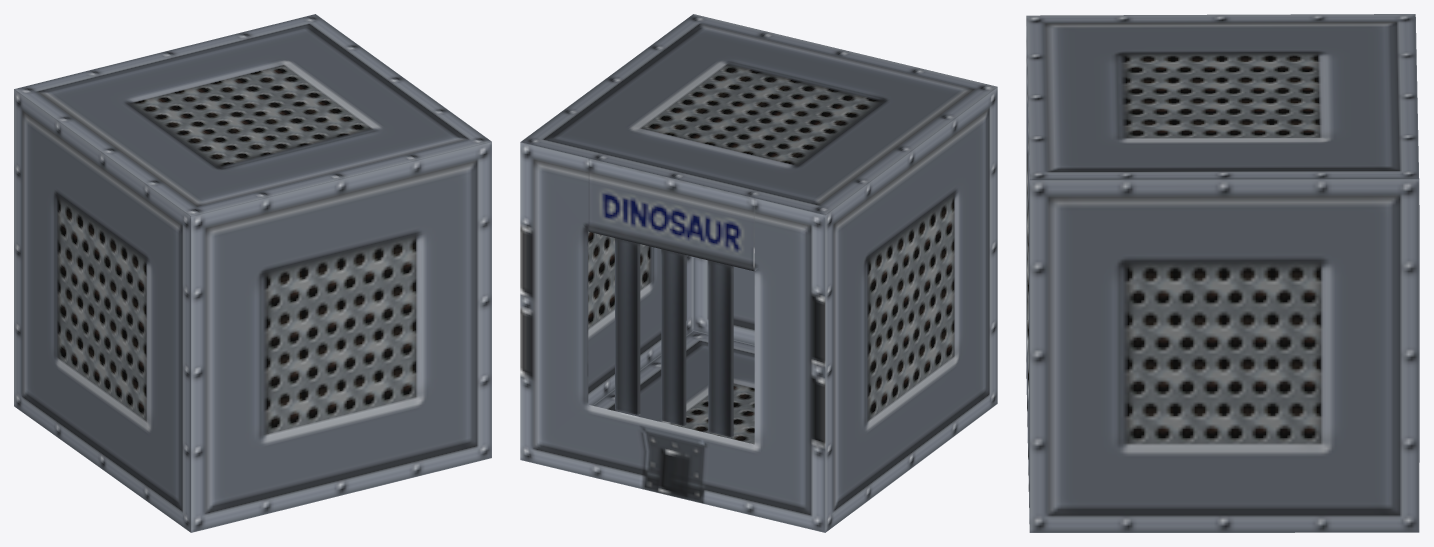
Rendered from bigcage03.glb.
The picture shows the model from 3 angles, left to right: view 1: azimuth 30°, elevation 25°; view 2: azimuth 150°, elevation 25°; view 3: azimuth 270°, elevation 25°; orthographic projection. The views are drawn at different scales.
Parts seen in each view (by area): view 1: bigcage03; view 2: bigcage03; view 3: bigcage03.
Boxes of the visible parts, x1=… form: bigcage03: x1=14, y1=14, x2=491, y2=532; bigcage03: x1=520, y1=14, x2=997, y2=532; bigcage03: x1=1026, y1=14, x2=1419, y2=532.
Bounding box in the file's own units: 585 × 582 × 586.
2 materials, 2 textured.
